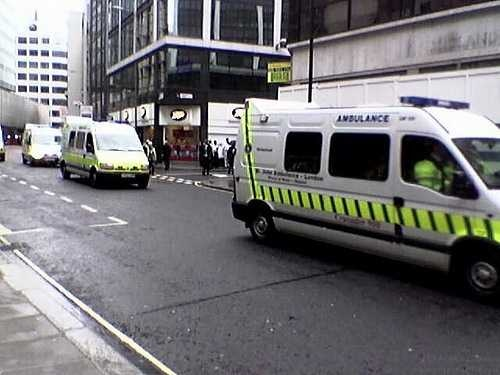Ambulance: (221, 91, 500, 294), (52, 112, 169, 201), (9, 118, 50, 168)
